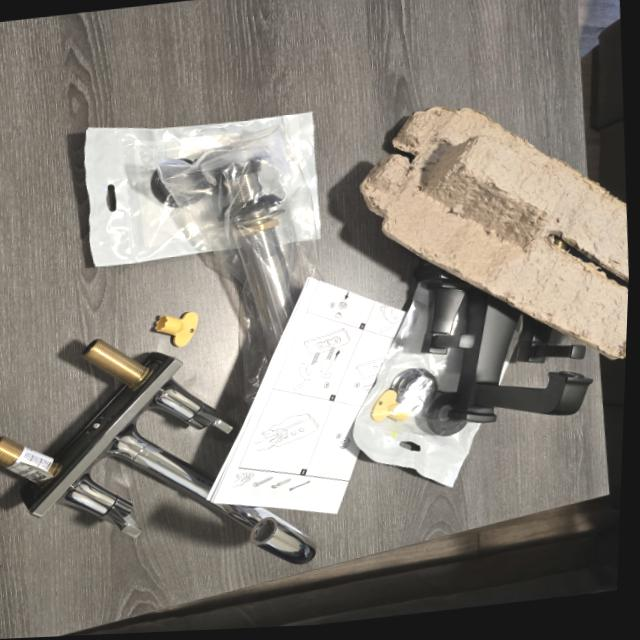10o: (0, 339, 315, 564)
11o: (156, 118, 317, 400)
12o: (353, 283, 479, 486), (448, 297, 466, 334)
13o: (84, 112, 320, 266)
14: (151, 312, 197, 346)
8: (208, 278, 405, 513)
9o: (415, 264, 592, 422), (510, 314, 585, 362)
